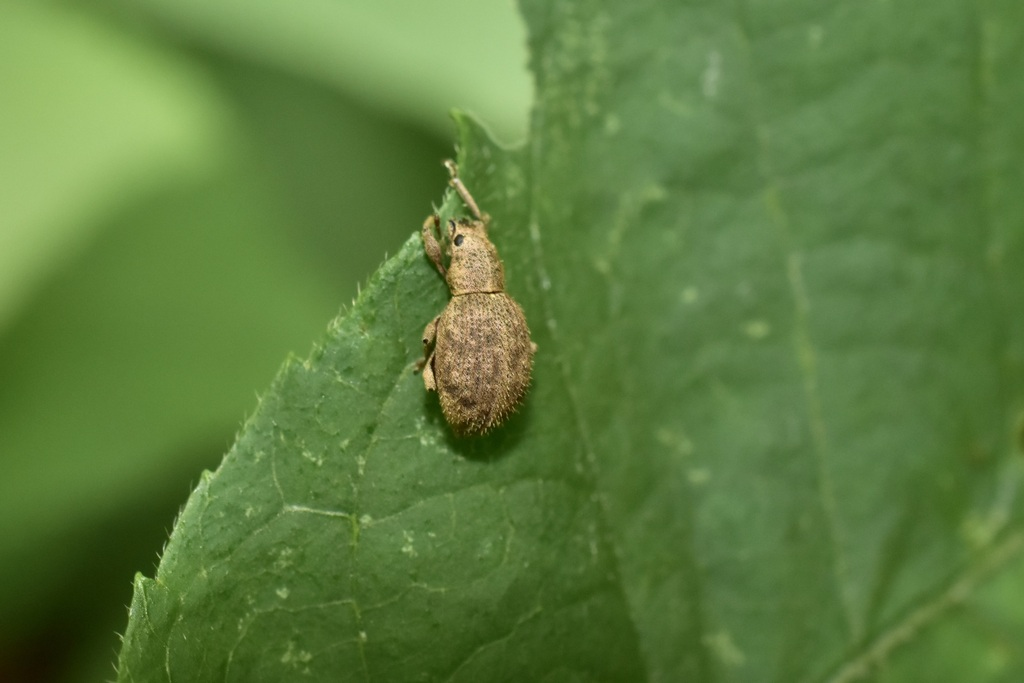weevils: (323, 99, 623, 501)
